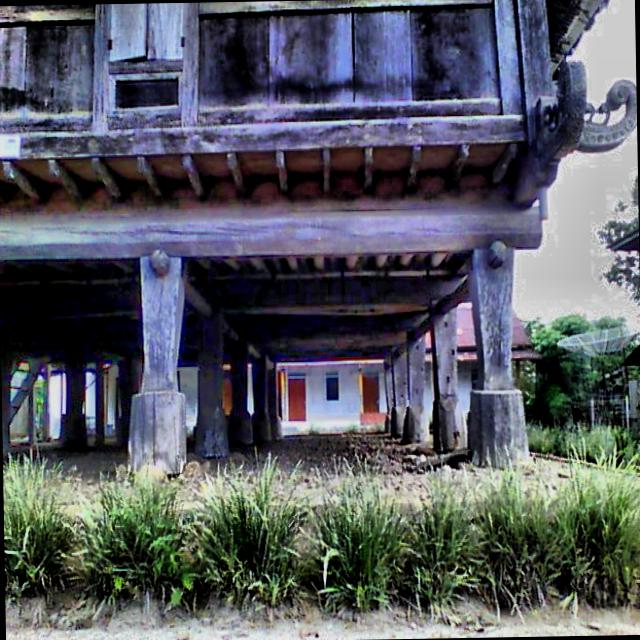column: (466, 248, 529, 469), (127, 256, 186, 473), (432, 303, 466, 449), (194, 363, 227, 457), (403, 328, 428, 441), (252, 362, 281, 440), (58, 364, 86, 443), (229, 363, 253, 443), (117, 364, 139, 445), (391, 350, 409, 437), (95, 362, 104, 443), (384, 361, 394, 433)
ornamen: (535, 61, 637, 165)
roof: (550, 0, 604, 77)
wall: (0, 0, 555, 158)
window: (110, 2, 184, 61)
